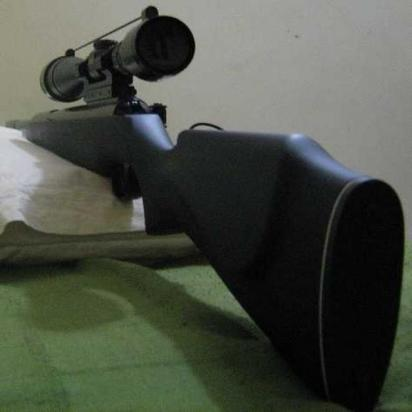Gun: (4, 2, 411, 412)
